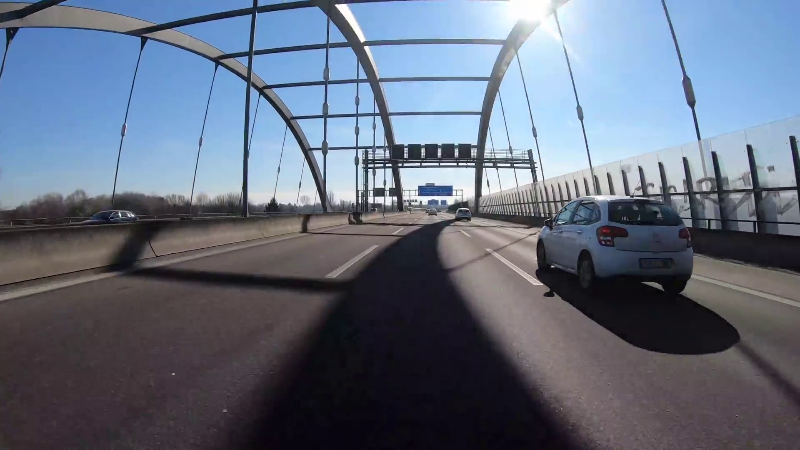Plate: (637, 257, 675, 269)
